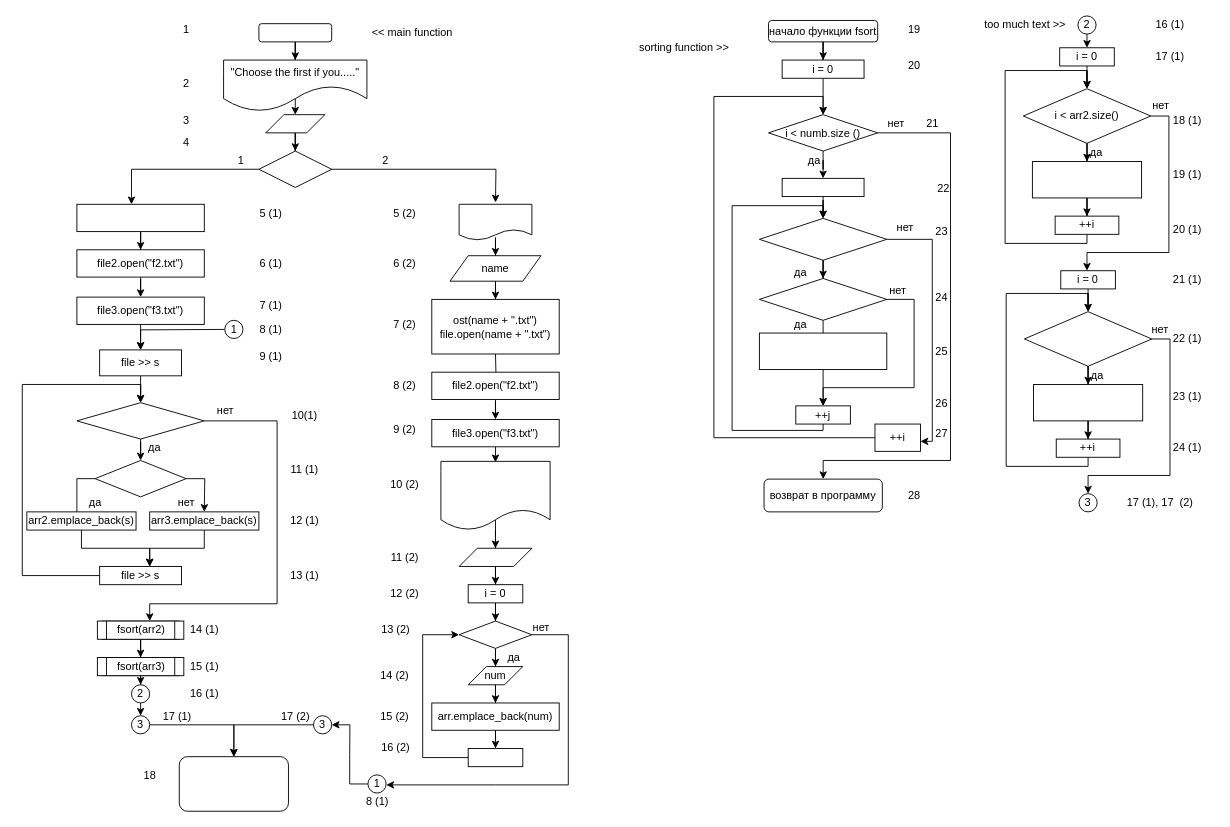
The diagram is 1230 pixels wide and 827 high, and some of its shapes have lost their labels. The shapes that lost their labels are listed below. From the top down, each one's centre as x and y in pixels, then its label:
pixel 295 32: начало
pixel 295 123: numb
pixel 822 187: j = 0
pixel 1086 179: file2 << arr2[i]
pixel 140 217: file.open("f1.txt")
pixel 495 221: "enter file name"
pixel 822 238: j < numb.size() - i - 1
pixel 822 299: numb[j] > numb[j+1]
pixel 822 350: swap(numb[j+1], numb[j])
pixel 1087 338: i < arr3.size()
pixel 140 420: !file.eof()
pixel 1088 402: file3 << arr3[i]
pixel 140 478: s % 2 == 0
pixel 495 495: "Enter the set of numbers to be entered"
pixel 495 556: size
pixel 495 634: i < size
pixel 495 757: i++
pixel 233 783: конец
